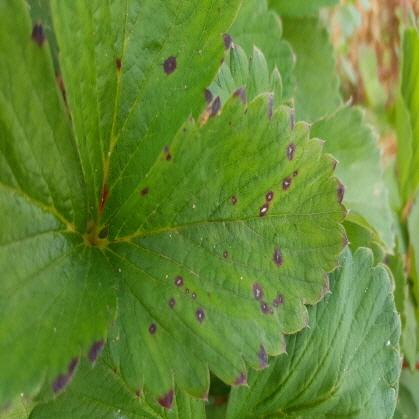Leaf Spot: (95, 82, 351, 411), (49, 0, 245, 239)
